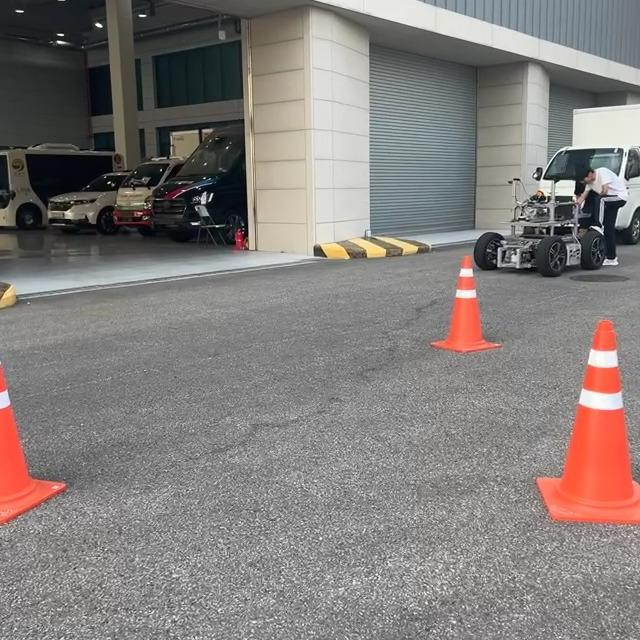fallen_object: (483, 302, 640, 613), (0, 343, 164, 594), (402, 235, 508, 392)
